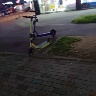beam: (28, 9, 58, 40)
gcooter: (21, 14, 55, 57)
